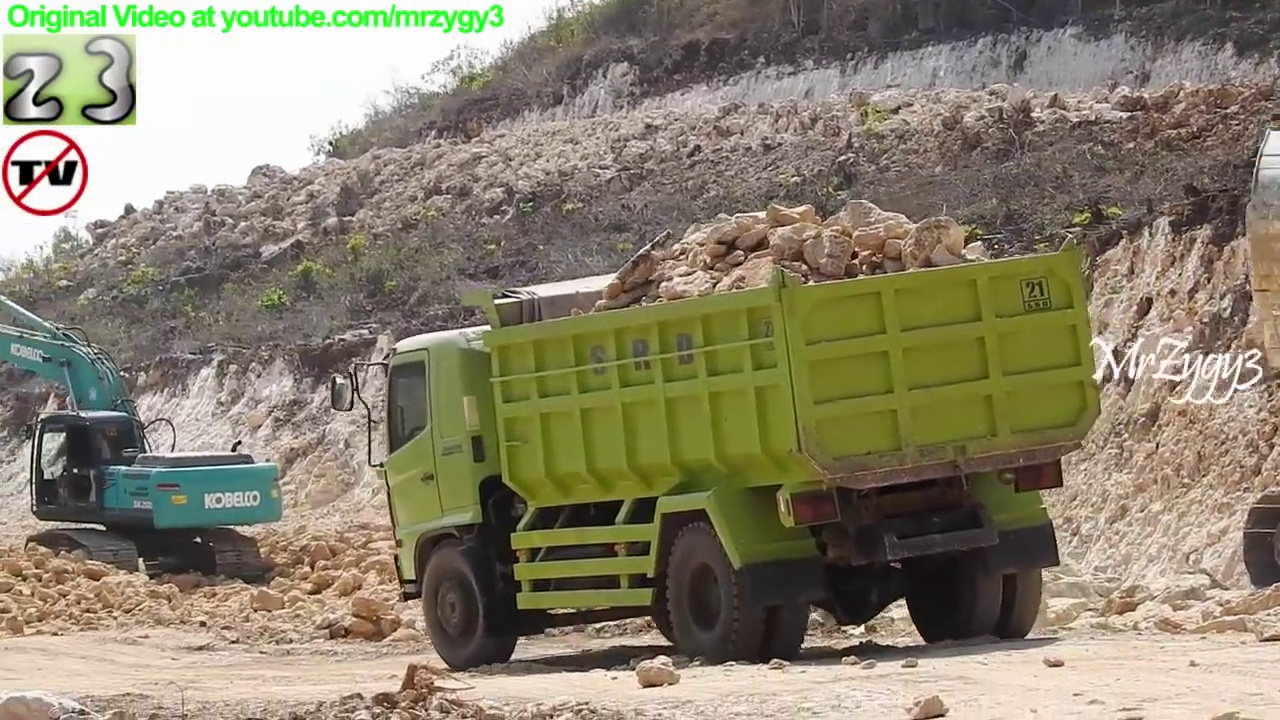excavator: (1, 285, 289, 599), (1236, 119, 1280, 602)
truck: (326, 227, 1110, 674)
